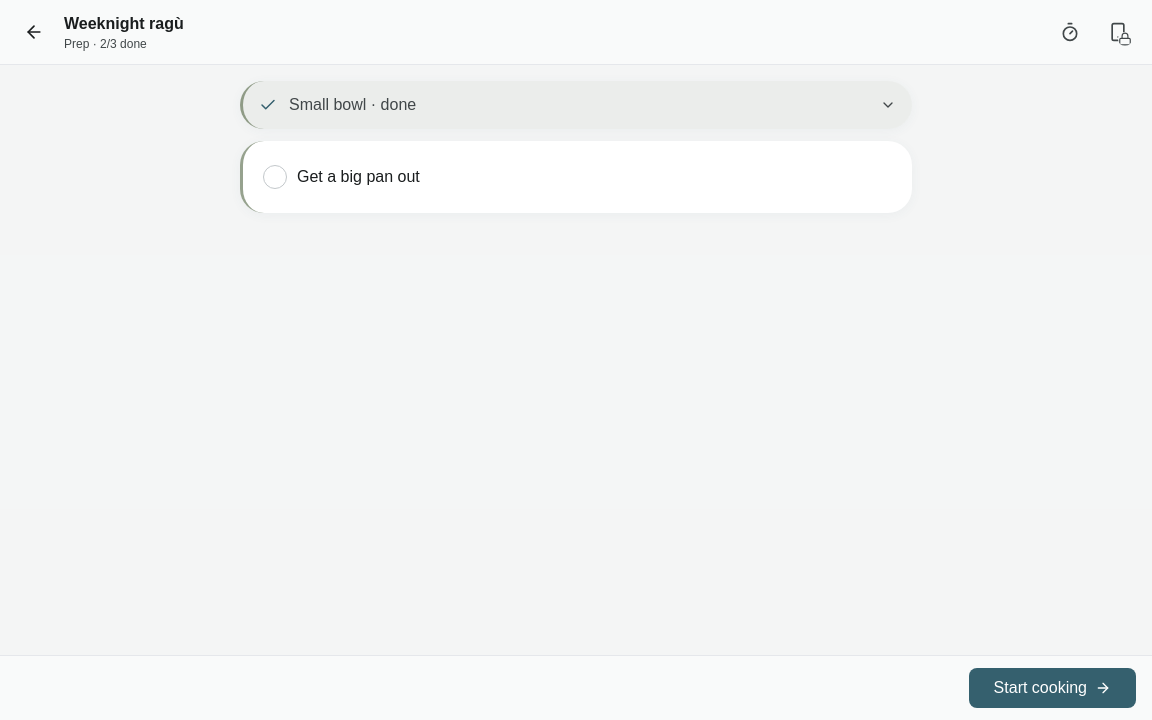
Test: GuidedCookPage — the prep board replaces mise en place › folds a finished card to one done line, and reopens it on a tap
Click the button with test id "guided-prep-card-done" at coordinates (353, 104), box [243, 81, 912, 129]
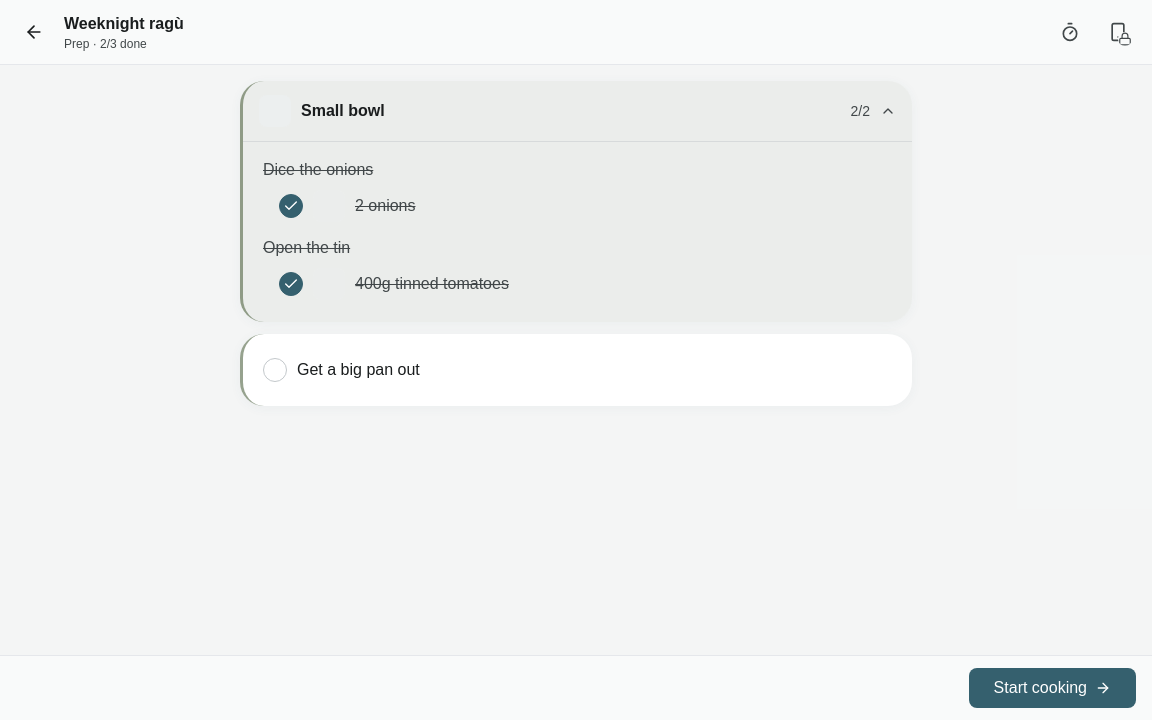
Note: And the reopened header folds it back.
Click the button with test id "guided-prep-card-header" at coordinates (275, 111), box [243, 81, 912, 142]
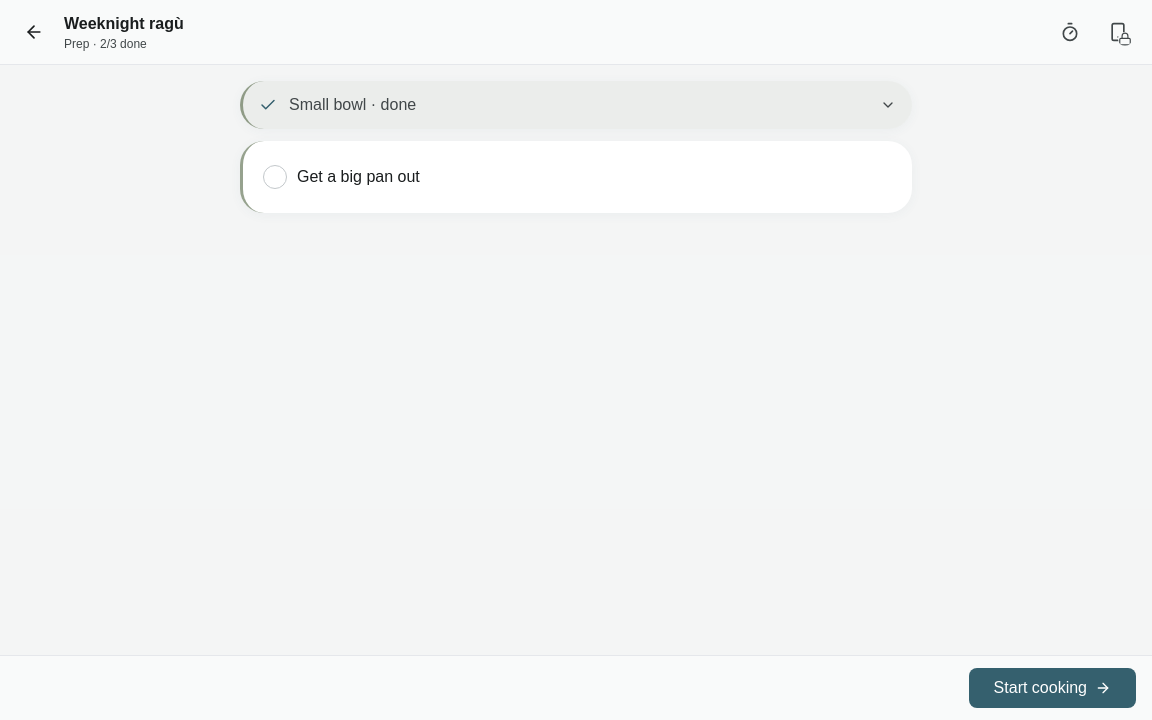
Expected: the button with test id "guided-prep-card-done" is shown, [243, 81, 912, 129]
